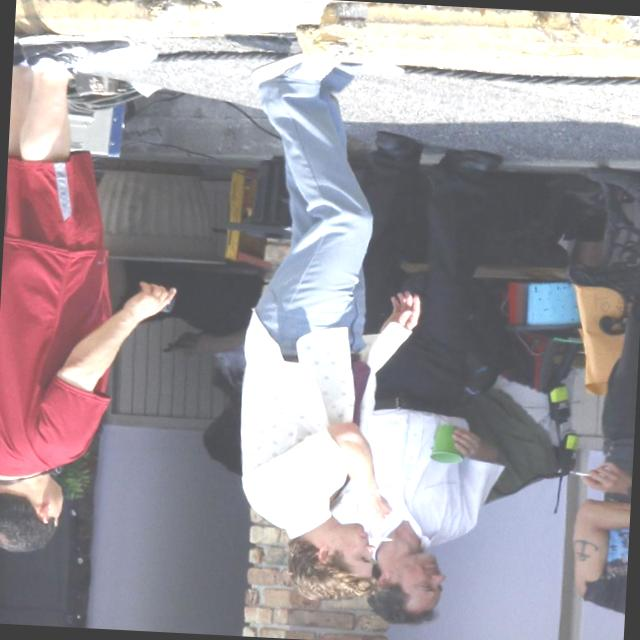smoke: (362, 529, 401, 549)
